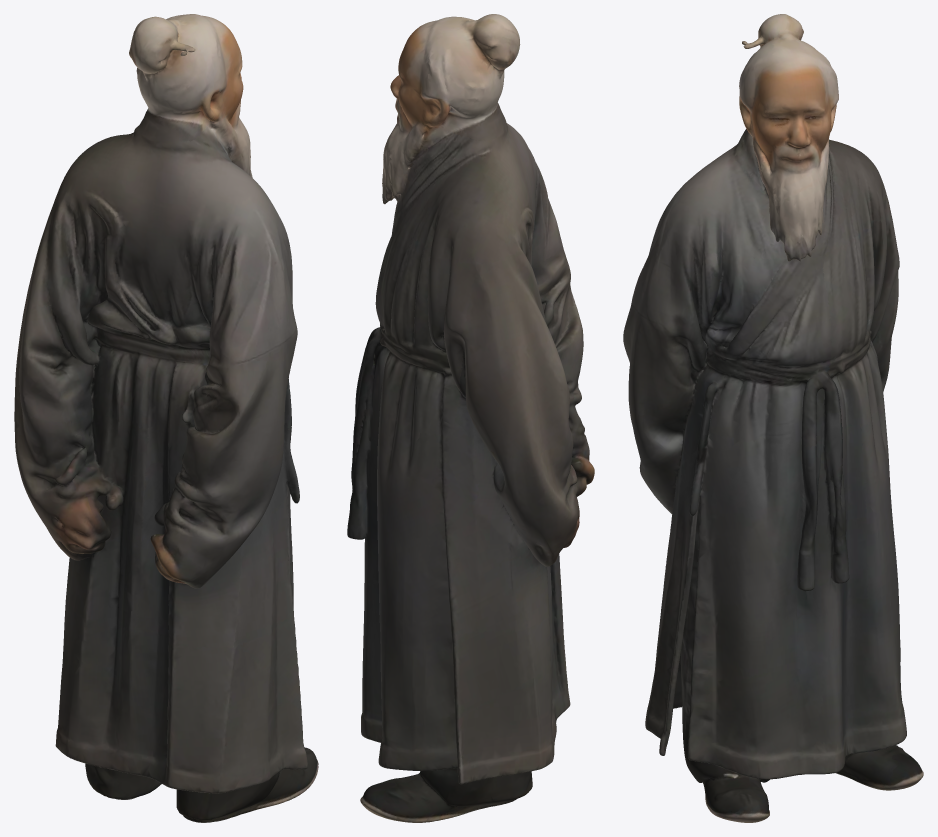
Rendered from laozi.glb.
3 renders of one model, left to right at view 1: azimuth 30°, elevation 25°; view 2: azimuth 150°, elevation 25°; view 3: azimuth 270°, elevation 25°, orthographic. The views are drawn at different scales.
Parts seen in each view (by area): view 1: tripo_node_5324995b-066d-414e-9a94-1b2b16bb8f51; view 2: tripo_node_5324995b-066d-414e-9a94-1b2b16bb8f51; view 3: tripo_node_5324995b-066d-414e-9a94-1b2b16bb8f51.
Part boxes in pixels (bbox=[...]): tripo_node_5324995b-066d-414e-9a94-1b2b16bb8f51: bbox=[14, 14, 318, 822]; tripo_node_5324995b-066d-414e-9a94-1b2b16bb8f51: bbox=[347, 14, 594, 822]; tripo_node_5324995b-066d-414e-9a94-1b2b16bb8f51: bbox=[623, 14, 923, 822].
Bounding box in the file's own units: 0.3344 × 1 × 0.3644.
1 material, 1 textured.
